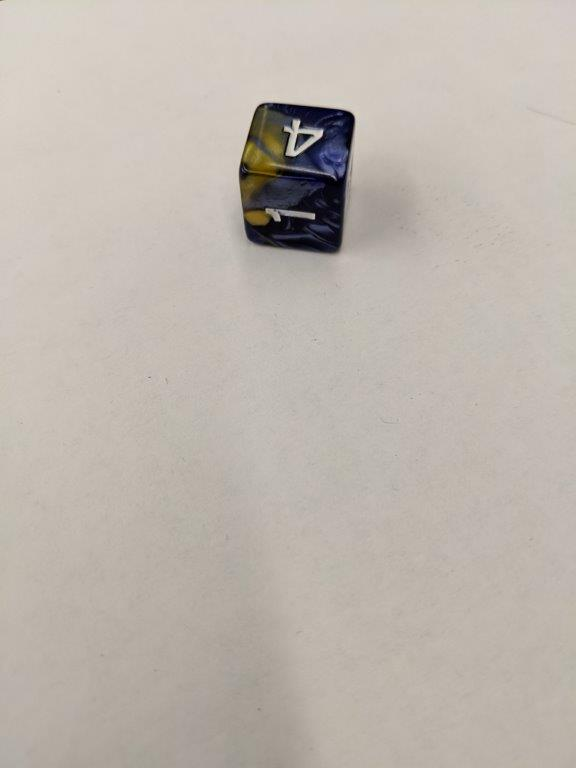d6-4: (238, 102, 357, 255)
